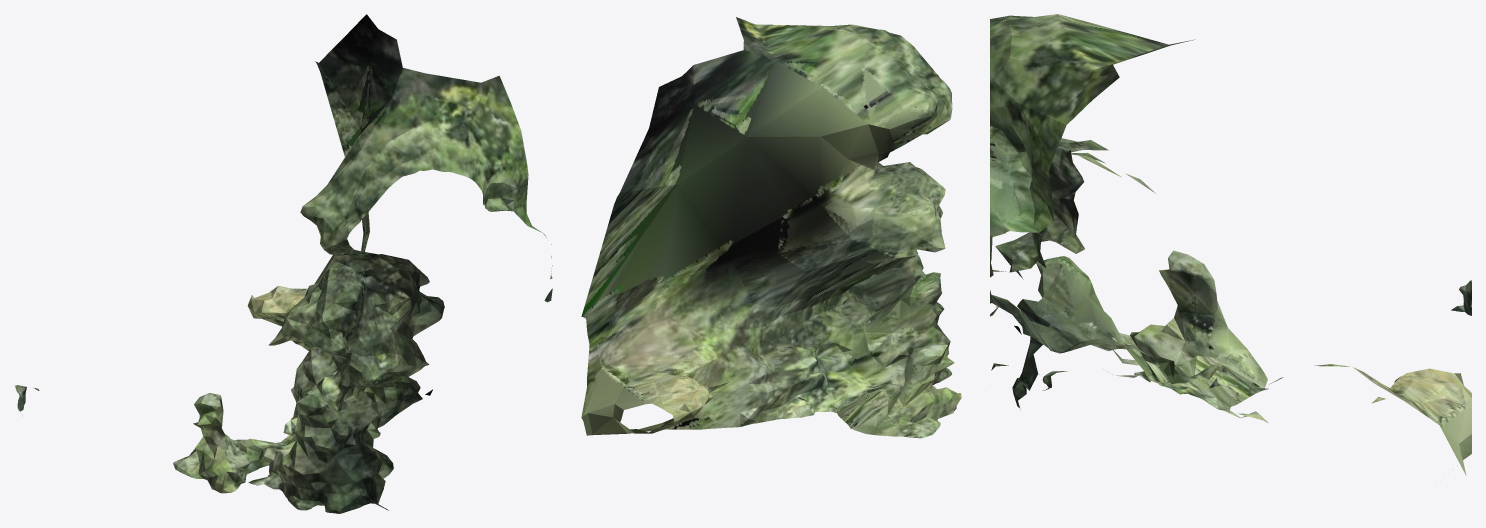
3 views of the same model, side by side, from view 1: azimuth 30°, elevation 25°; view 2: azimuth 150°, elevation 25°; view 3: azimuth 270°, elevation 25° (orthographic). The views are drawn at different scales.
Bounding box in the file's own units: 26.11 × 26.11 × 26.11.
Materials: 4 (4 with a texture image).
